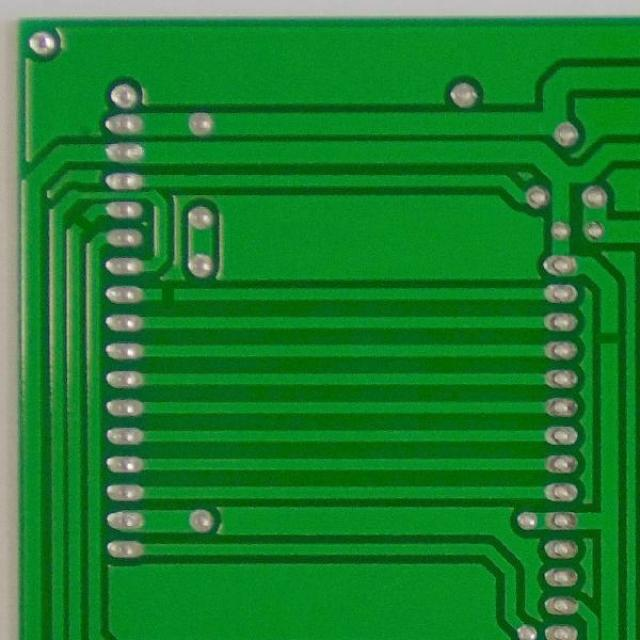open_circuit: (155, 280, 179, 308), (74, 211, 97, 235), (596, 328, 621, 349)
